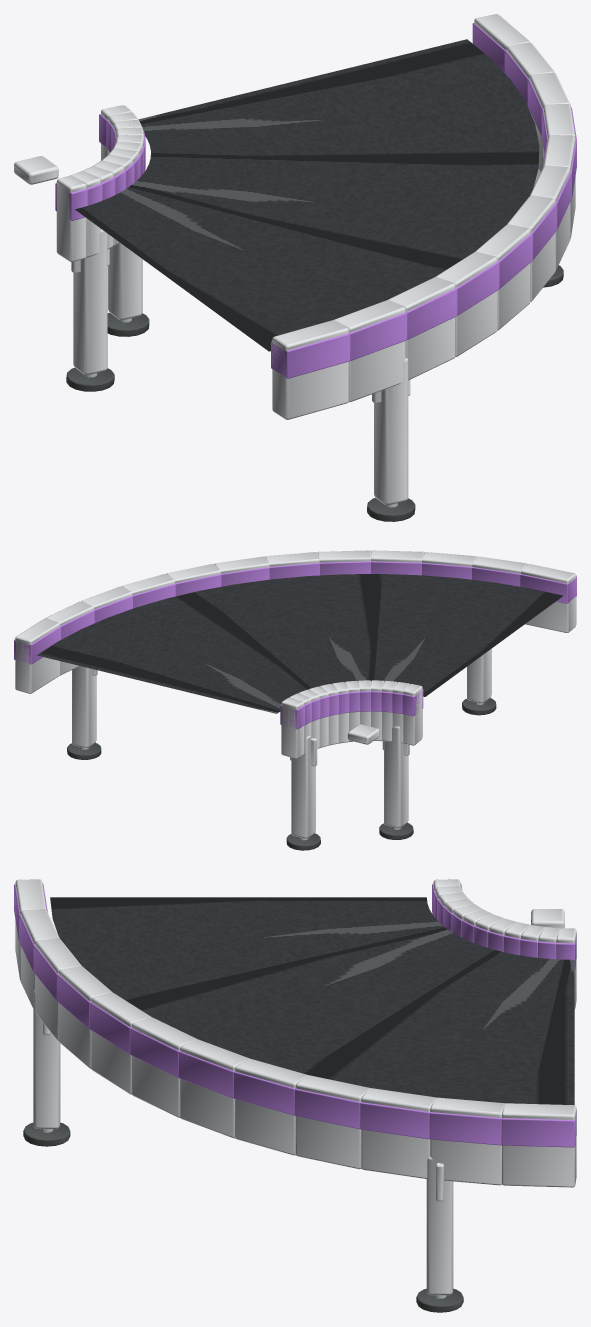
Rendered from cinta_curva_mk3.glb.
3 renders of one model, top to bottom at view 1: azimuth 30°, elevation 25°; view 2: azimuth 150°, elevation 25°; view 3: azimuth 270°, elevation 25°, orthographic. The views are drawn at different scales.
Visible parts, largest first — view 1: banda, bastidor_ext0, pata_int0, pata_ext0, bastidor_ext1, bastidor_ext2, bastidor_ext3, bastidor_ext4, pata_int1, franja_ext0, bastidor_int0, bastidor_ext5 (+17 smaller); view 2: banda, pata_int0, bastidor_ext11, pata_int1, pata_ext1, bastidor_ext0, bastidor_int11, pata_ext0, bastidor_int0, franja_ext0, franja_ext11, bastidor_ext10 (+29 smaller); view 3: banda, bastidor_ext11, bastidor_ext9, bastidor_ext10, bastidor_ext8, bastidor_ext7, bastidor_ext6, pata_ext1, bastidor_ext5, pata_ext0, bastidor_ext4, bastidor_ext3 (+16 smaller).
Part boxes in pixels (<box>): banda: <box>75,39,539,351</box>; bastidor_ext0: <box>272,320,348,419</box>; pata_int0: <box>73,229,107,374</box>; pata_ext0: <box>374,358,408,505</box>; bastidor_ext1: <box>334,300,405,402</box>; bastidor_ext2: <box>388,277,455,380</box>; bastidor_ext3: <box>435,251,497,357</box>; bastidor_ext4: <box>475,224,530,330</box>; pata_int1: <box>108,243,142,320</box>; franja_ext0: <box>271,333,350,378</box>; bastidor_int0: <box>56,175,86,261</box>; bastidor_ext5: <box>507,195,555,301</box>; banda: <box>37,574,563,713</box>; pata_int0: <box>384,726,408,828</box>; bastidor_ext11: <box>15,618,59,693</box>; pata_int1: <box>291,736,315,838</box>; pata_ext1: <box>72,666,96,747</box>; bastidor_ext0: <box>521,564,576,632</box>; bastidor_int11: <box>281,697,303,758</box>; pata_ext0: <box>467,649,491,703</box>; bastidor_int0: <box>403,684,422,745</box>; franja_ext0: <box>520,574,576,603</box>; franja_ext11: <box>14,626,60,664</box>; bastidor_ext10: <box>45,601,93,675</box>; banda: <box>50,897,574,1104</box>; bastidor_ext11: <box>502,1103,576,1187</box>; bastidor_ext9: <box>361,1088,436,1178</box>; bastidor_ext10: <box>430,1097,504,1185</box>; bastidor_ext8: <box>295,1075,369,1169</box>; bastidor_ext7: <box>235,1058,307,1155</box>; bastidor_ext6: <box>180,1039,249,1138</box>; pata_ext1: <box>426,1157,453,1295</box>; bastidor_ext5: <box>131,1017,196,1117</box>; pata_ext0: <box>33,989,60,1128</box>; bastidor_ext4: <box>91,992,150,1094</box>; bastidor_ext3: <box>58,966,112,1068</box>.
Bounding box in the file's own units: 0.837 × 0.33 × 0.837.
Materials: 5 (1 with a texture image).
